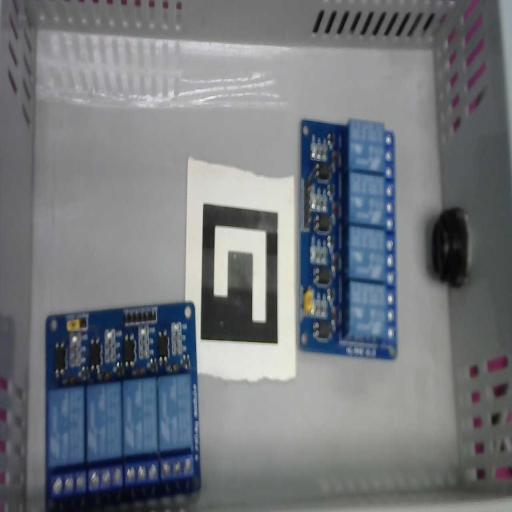QR: (184, 157, 296, 381)
relay_module: (44, 301, 201, 512), (298, 118, 398, 360)
